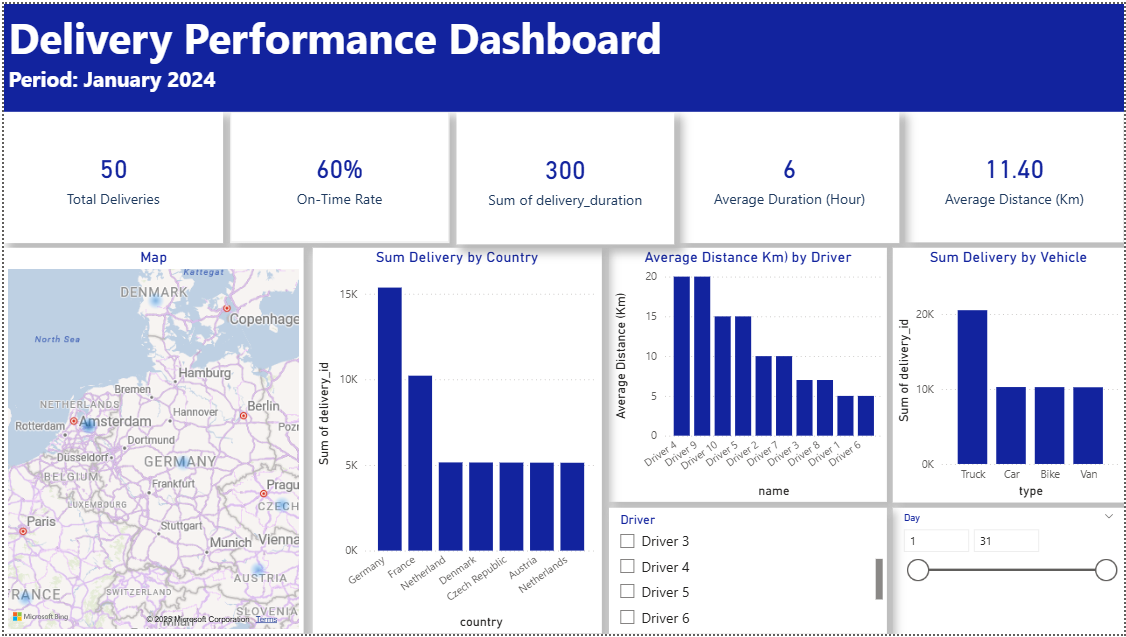

This screenshot's page, from the dashboard's own definition file:
{"tool":"powerbi","page":{"name":"Page 1","canvas":[1280,720],"ordinal":0},"visuals":[{"type":"card","fields":{"Values":["temp_measures.total_deliveries"]},"box":[0,0,200,150],"z":0},{"type":"card","fields":{"Values":["temp_measures.onTime_rate"]},"box":[200,0,200,150],"z":1000},{"type":"card","fields":{"Values":["temp_measures.avg_distance"]},"box":[600,0,200,150],"z":2000},{"type":"card","fields":{"Values":["temp_measures.Average Duration"]},"box":[400,0,200,150],"z":3000},{"type":"clusteredColumnChart","fields":{"Y":["temp_measures.On-Time Rate"],"Category":["drivers.name"]},"box":[200,198.8,263.8,150],"z":5000},{"type":"map","fields":{"Category":["drivers.country"]},"box":[600,198.3,200,150],"z":5001},{"type":"clusteredColumnChart","fields":{"Y":["deliveries.delivery_id"],"Category":["drivers.country"]},"box":[600,381.2,200,150],"z":5002},{"type":"clusteredColumnChart","fields":{"Y":["deliveries.delivery_id"],"Category":["deliveries.pickup_time.Variation.Date Hierarchy.Day"]},"box":[881.5,198.3,200,150],"z":5003},{"type":"clusteredColumnChart","fields":{"Y":["deliveries.delivery_id"],"Category":["vehicles.type"]},"box":[200,381.2,263.8,150],"z":5004},{"type":"columnChart","fields":{"Category":["vehicles.type"],"Y":["deliveries.distance"]},"box":[871.2,381.2,252.5,150],"z":5005},{"type":"card","fields":{"Values":["deliveries.delivery_duration"]},"box":[881.5,0,200,150],"z":5006},{"type":"clusteredColumnChart","fields":{"Y":["temp_measures.Total Deliveries"],"Category":["deliveries.pickup_time.Variation.Date Hierarchy.Month","deliveries.pickup_time.Variation.Date Hierarchy.Day"]},"box":[871.2,541.2,252.5,150],"z":5007}]}

Visuals, with their boxes in screenshot pixels (x1, y1, x2, y2), scaled from the page's 1280x720 canvas onto the 1126x637 screenshot:
card - temp_measures.total_deliveries: (x1=0, y1=0, x2=176, y2=133)
card - temp_measures.onTime_rate: (x1=176, y1=0, x2=352, y2=133)
card - temp_measures.avg_distance: (x1=528, y1=0, x2=704, y2=133)
card - temp_measures.Average Duration: (x1=352, y1=0, x2=528, y2=133)
clusteredColumnChart - temp_measures.On-Time Rate x drivers.name: (x1=176, y1=176, x2=408, y2=309)
map - drivers.country: (x1=528, y1=175, x2=704, y2=308)
clusteredColumnChart - deliveries.delivery_id x drivers.country: (x1=528, y1=337, x2=704, y2=470)
clusteredColumnChart - deliveries.delivery_id x deliveries.pickup_time.Variation.Date Hierarchy.Day: (x1=775, y1=175, x2=951, y2=308)
clusteredColumnChart - deliveries.delivery_id x vehicles.type: (x1=176, y1=337, x2=408, y2=470)
columnChart - vehicles.type x deliveries.distance: (x1=766, y1=337, x2=989, y2=470)
card - deliveries.delivery_duration: (x1=775, y1=0, x2=951, y2=133)
clusteredColumnChart - temp_measures.Total Deliveries x deliveries.pickup_time.Variation.Date Hierarchy.Month: (x1=766, y1=479, x2=989, y2=612)
